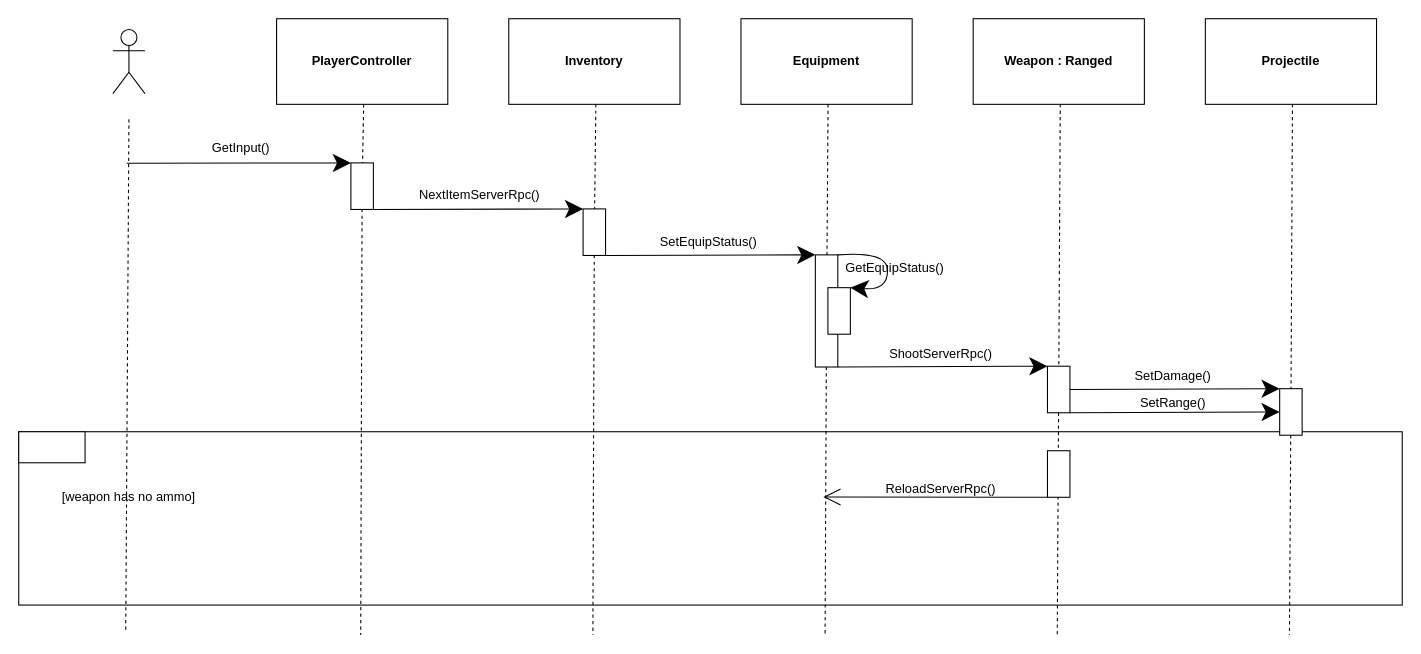
The diagram is 1421 pixels wide and 654 high, and some of its shapes have lost their labels. The centre of each missing label's shape, as x and y in pixels:
"alt" belongs at (51,447).
"Player" belongs at (128,61).
